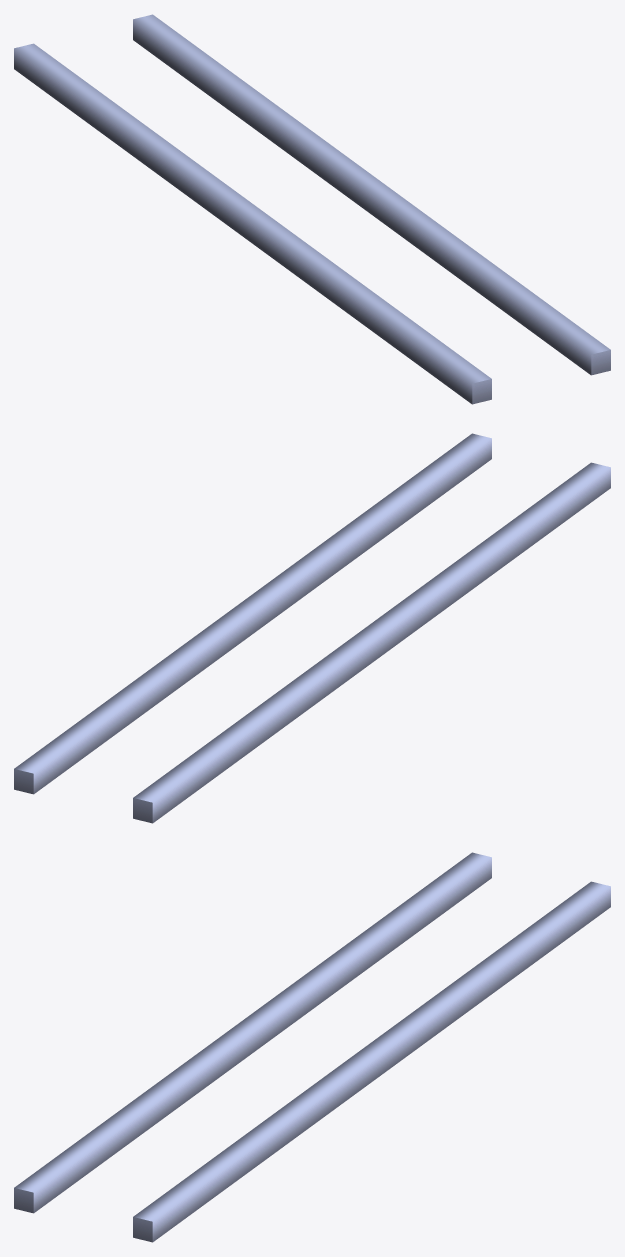
The model's file is kenney-train-railroad-rail-straight.glb.
3 renders of one model, top to bottom at view 1: azimuth 30°, elevation 25°; view 2: azimuth 150°, elevation 25°; view 3: azimuth 330°, elevation 25°, orthographic.
Visible parts, largest first — view 1: railroad-rail-straight; view 2: railroad-rail-straight; view 3: railroad-rail-straight.
Boxes of the visible parts, x1,y1,x2,y2 form: railroad-rail-straight: [14, 14, 610, 404]; railroad-rail-straight: [14, 433, 610, 823]; railroad-rail-straight: [14, 852, 610, 1242].
Bounding box in the file's own units: 0.6997 × 0.1001 × 4.
1 material, 1 textured.
